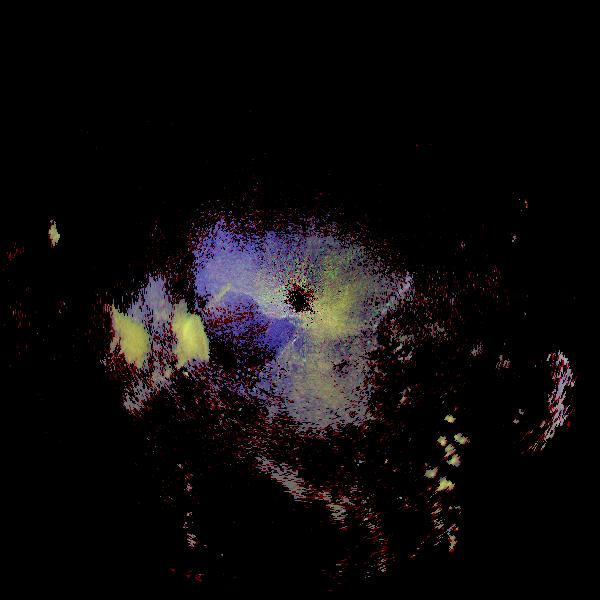roost: (116, 287, 227, 398), (5, 196, 80, 271)
